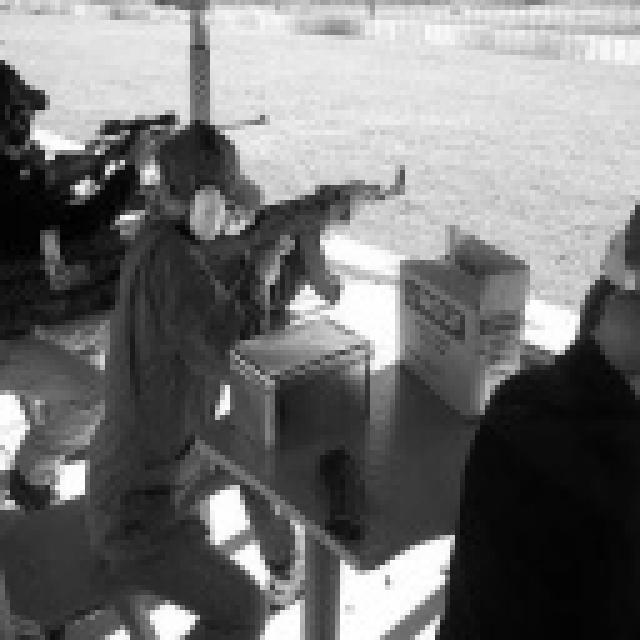Rifle: (163, 162, 540, 296), (2, 98, 314, 195)
